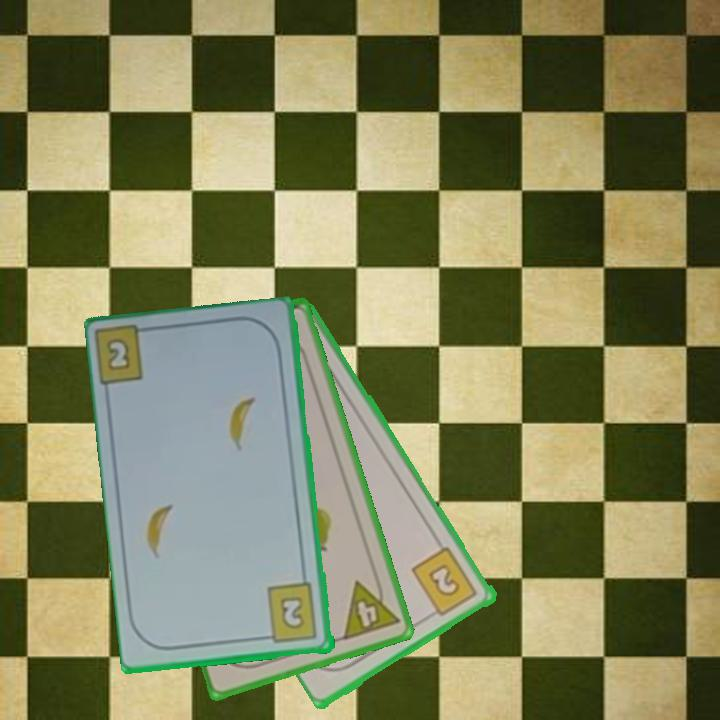2b: (408, 543, 481, 622), (94, 324, 159, 391), (259, 580, 321, 646)
4p: (339, 571, 403, 643)
